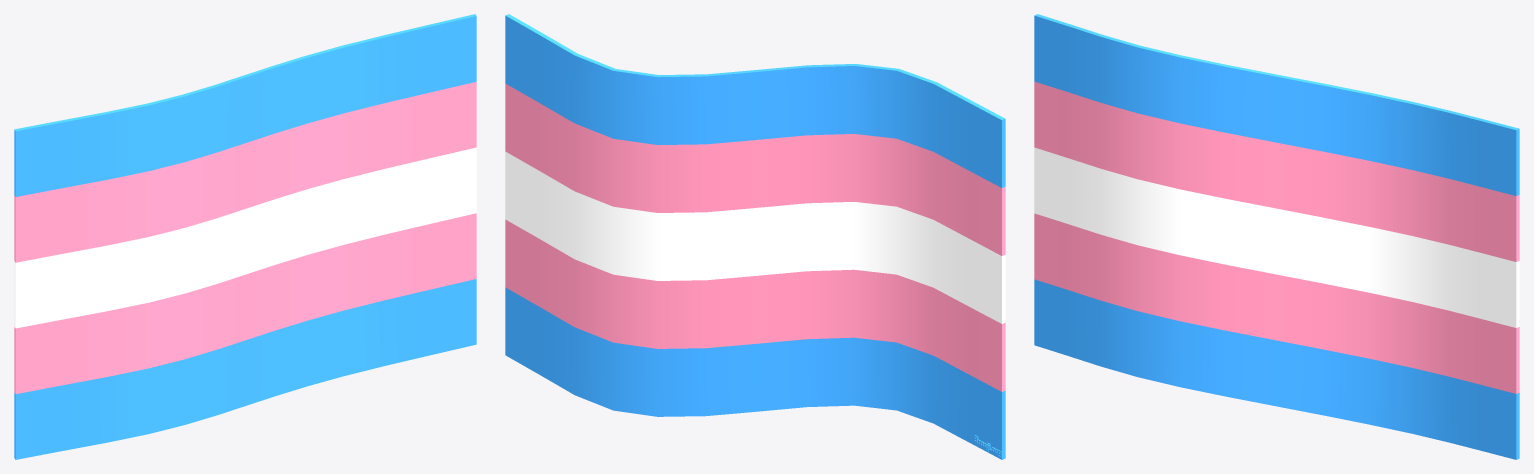
File: transgender_flag.glb
3 views of the same model, side by side, from view 1: azimuth 30°, elevation 25°; view 2: azimuth 150°, elevation 25°; view 3: azimuth 330°, elevation 25° (orthographic). The views are drawn at different scales.
Visible parts, largest first — view 1: transgender_flag; view 2: transgender_flag; view 3: transgender_flag.
Part boxes in pixels (x1,y1,x2,y2): transgender_flag: (14,14,476,459); transgender_flag: (505,14,1005,459); transgender_flag: (1034,14,1519,459).
Bounding box in the file's own units: 2.18 × 1.58 × 0.3373.
1 material, 1 textured.
